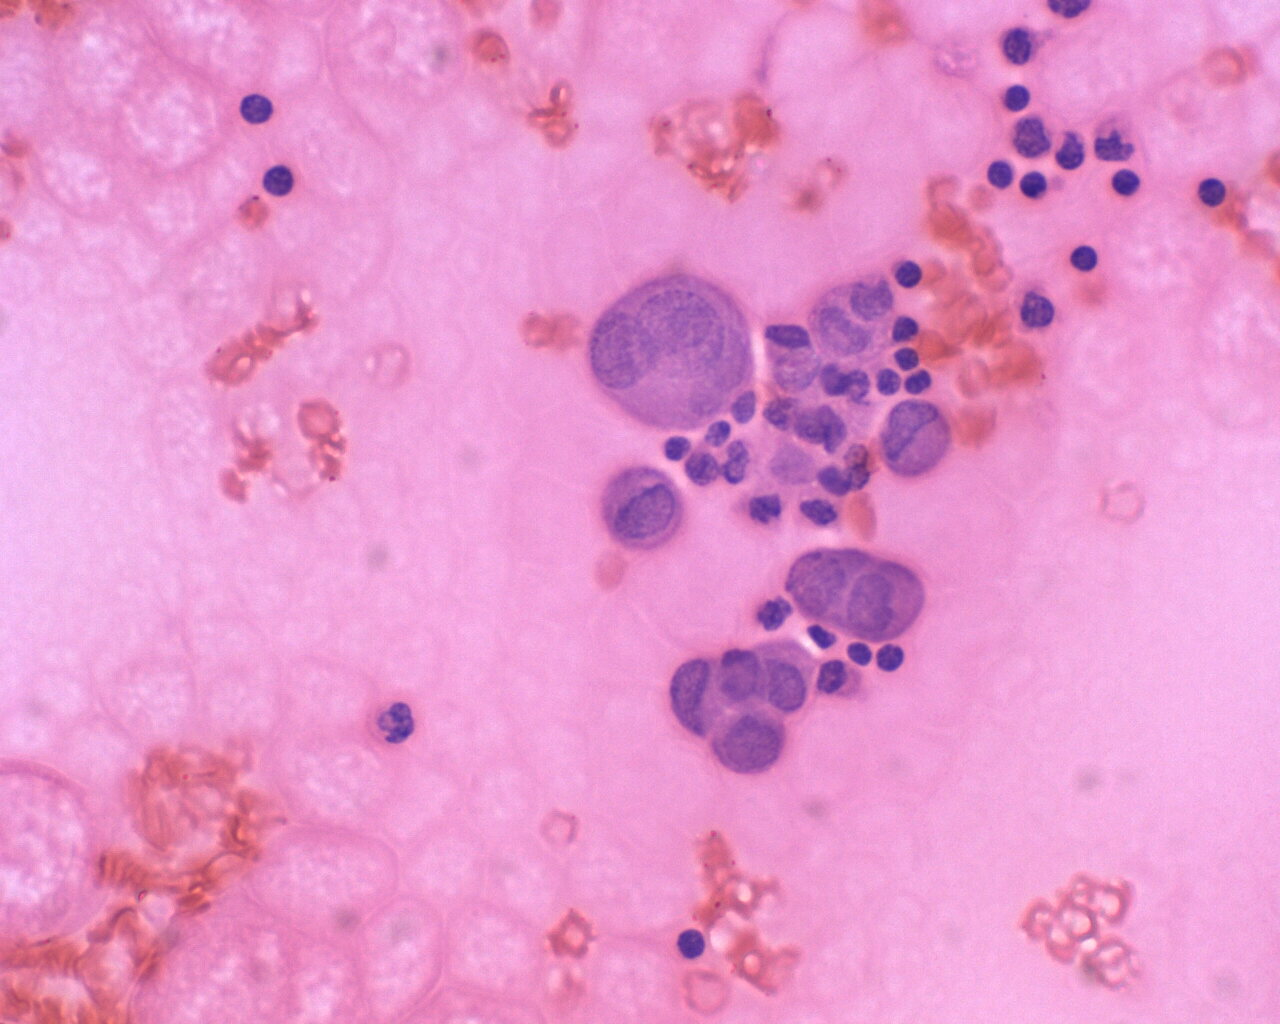ab: (586, 264, 762, 432), (784, 533, 928, 639), (704, 695, 793, 786), (601, 460, 680, 552), (878, 396, 954, 484)
lymph: (238, 85, 283, 127), (1067, 231, 1104, 280), (259, 156, 298, 200), (1018, 165, 1057, 207), (982, 147, 1017, 195), (676, 923, 709, 965), (1106, 161, 1144, 196), (999, 78, 1034, 117), (1196, 170, 1231, 207)
